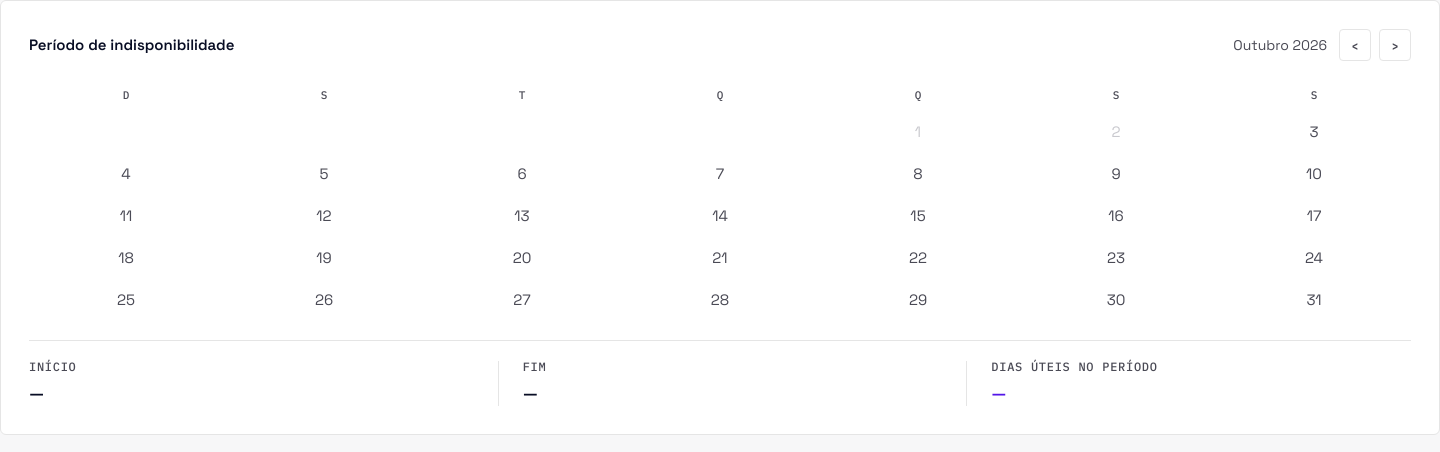
Test: DateRangePicker › desabilita dias passados e conta dias úteis do intervalo
Expected: the text "Outubro 2026" is shown, [1233,34,1327,56]
Expected: the cell named "01 out 2026" is disabled, [821,114,1015,152]
Click the cell named "05 out 2026": (324, 174) [227,156,421,194]
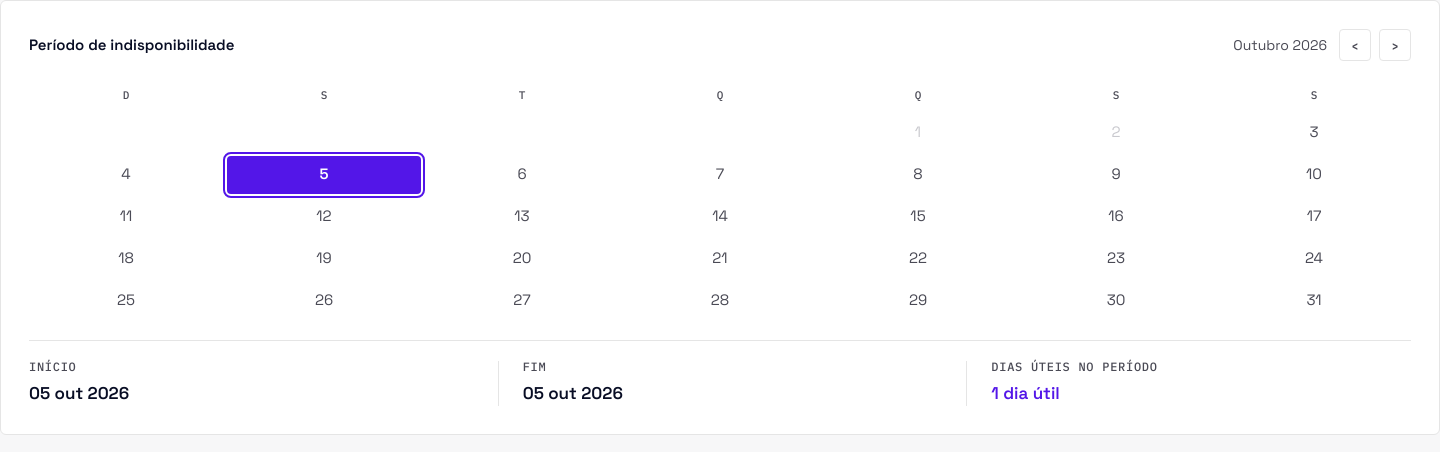
Click the cell named "09 out 2026": (1116, 174) [1019,156,1213,194]
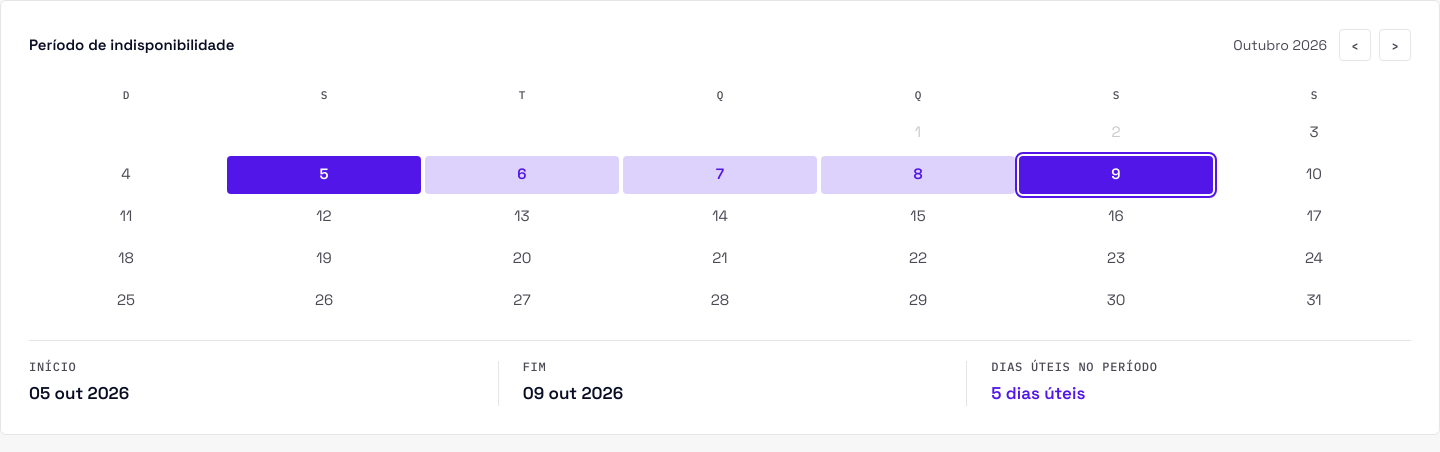
Now the text "05 out 2026" is shown, box [29,382,129,404]
Now the text "09 out 2026" is shown, box [523,382,623,404]
Now the text "5 dias úteis" is shown, box [991,382,1085,404]
